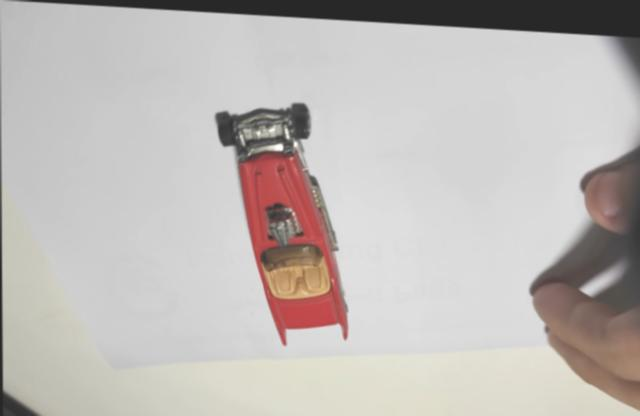03_V8: (214, 98, 349, 341)
